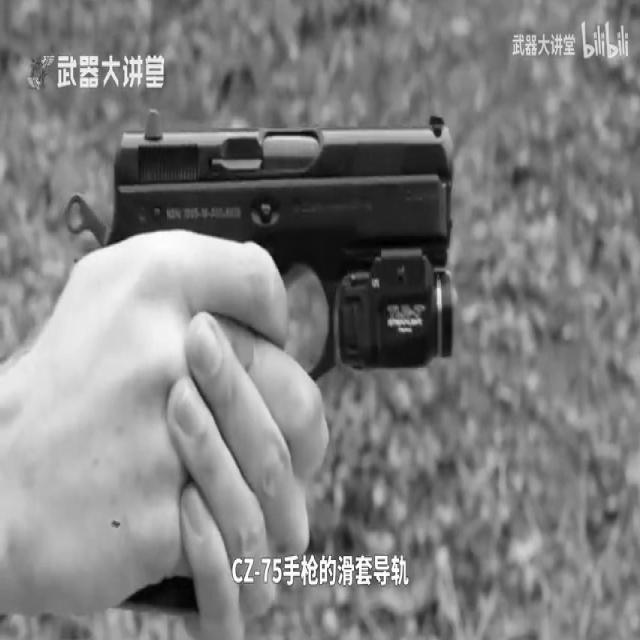Hand-Gun: (56, 54, 508, 640)
